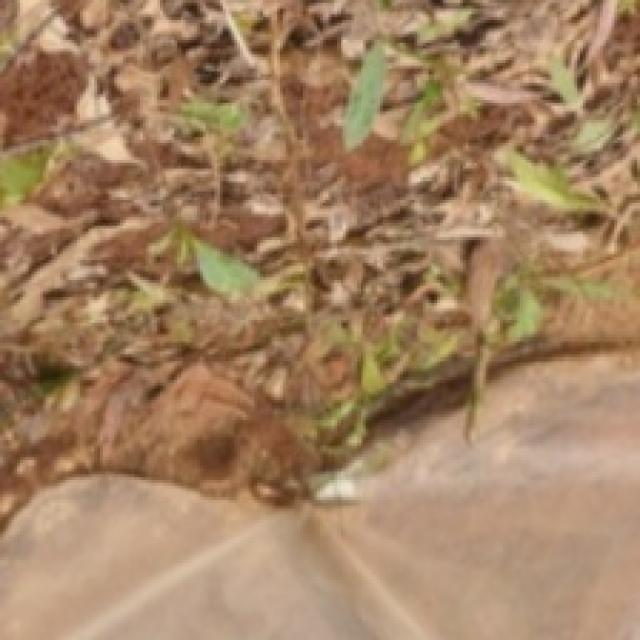king cobra: (0, 324, 469, 524), (491, 299, 640, 363)
